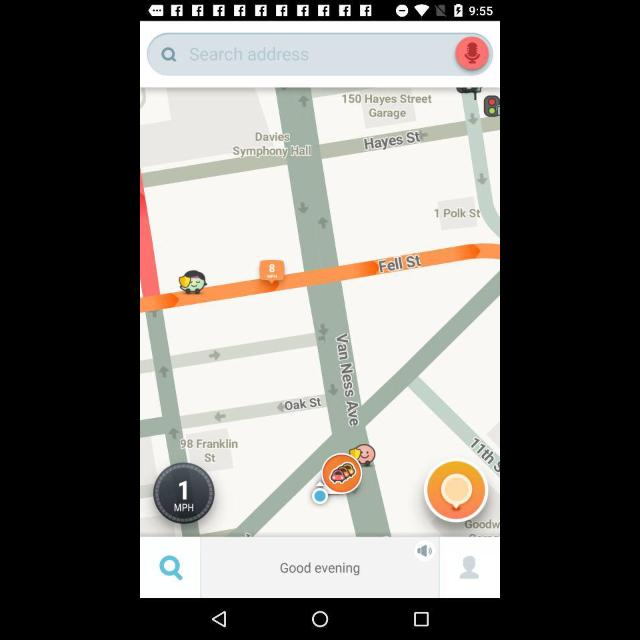icon: (454, 34, 490, 72), (160, 556, 184, 580), (460, 554, 480, 582), (416, 541, 434, 561), (160, 47, 177, 65), (211, 611, 227, 629), (312, 611, 328, 627), (414, 611, 428, 627)
input: (148, 34, 496, 74)
map: (142, 88, 500, 534)
panel: (141, 537, 499, 597), (141, 598, 499, 638)
text: (190, 45, 312, 65), (281, 562, 361, 576)
toolbar: (142, 22, 498, 86)
uppertaskbar: (140, 0, 500, 20)
